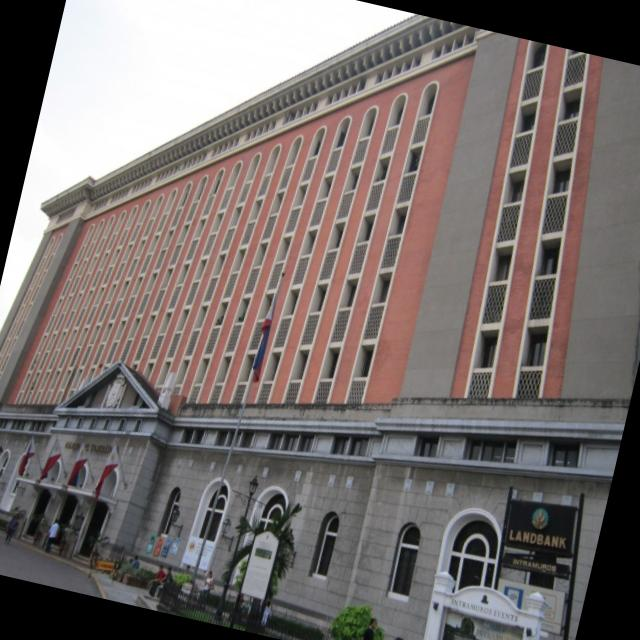Palacio de Gobernador: (0, 15, 640, 640)
